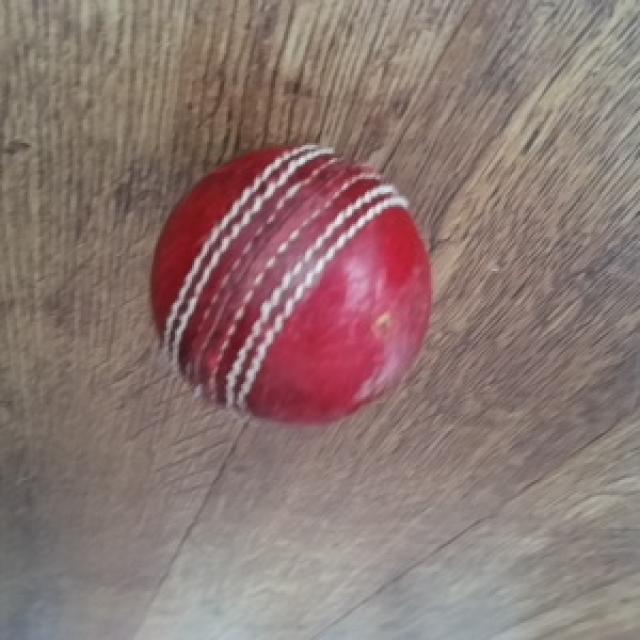ball: (149, 145, 433, 431)
